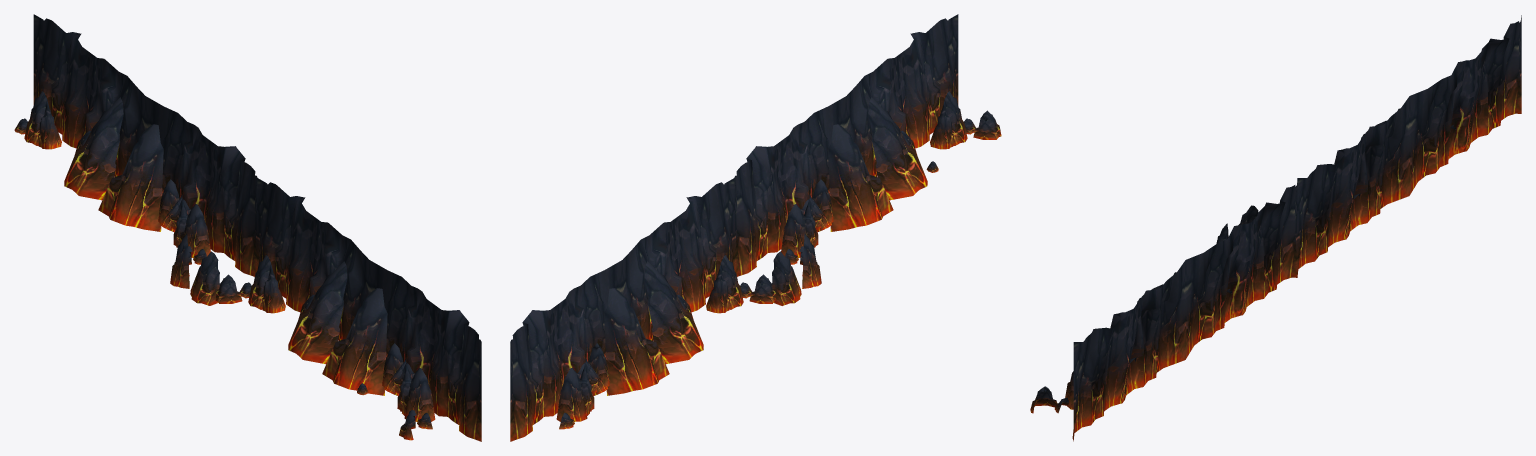
The model's file is chnagjing_sjb_08.FBX.
The picture shows the model from 3 angles, left to right: view 1: azimuth 30°, elevation 25°; view 2: azimuth 150°, elevation 25°; view 3: azimuth 330°, elevation 25°; orthographic projection.
Parts seen in each view (by area): view 1: chnagjing_sjb_08; view 2: chnagjing_sjb_08; view 3: chnagjing_sjb_08.
Part boxes in pixels (x1,y1,x2,y2): chnagjing_sjb_08: [14, 14, 481, 441]; chnagjing_sjb_08: [510, 14, 1001, 441]; chnagjing_sjb_08: [1030, 15, 1521, 441].
Bounding box in the file's own units: 654 × 5735 × 746.
